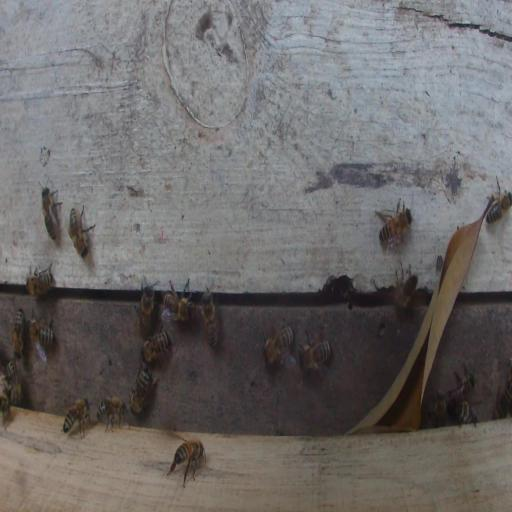bee: (374, 197, 414, 256), (167, 438, 207, 487), (298, 329, 333, 375), (161, 276, 195, 323), (67, 203, 95, 260), (129, 364, 155, 415), (200, 287, 221, 350), (96, 396, 130, 433), (41, 185, 62, 244), (28, 318, 56, 361), (136, 276, 156, 336), (62, 397, 90, 439), (485, 181, 511, 226), (141, 330, 172, 365), (265, 329, 292, 365), (26, 263, 54, 297), (450, 365, 475, 401), (5, 357, 23, 404), (396, 275, 417, 310), (10, 307, 24, 359), (430, 390, 449, 427), (495, 376, 511, 417), (454, 400, 478, 426), (0, 392, 10, 430)
